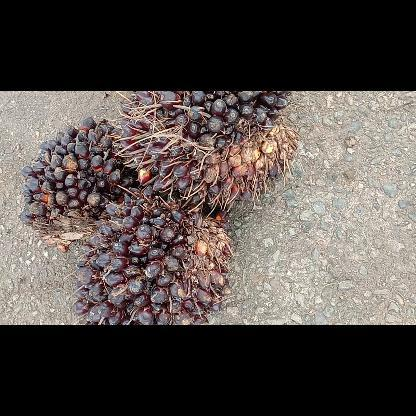TBS mentah: (74, 184, 232, 324), (122, 91, 296, 204), (20, 115, 134, 251)
